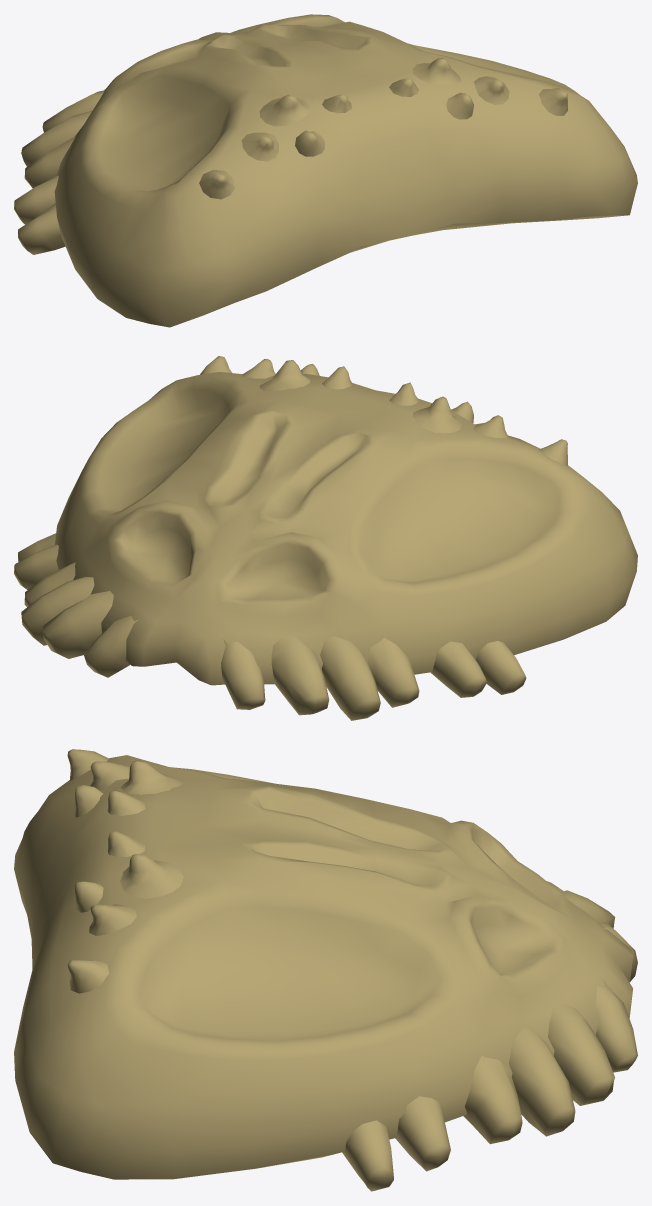
Rendered from obj_artifact_fossil01.fbx.
3 views of the same model, one above another, from view 1: azimuth 30°, elevation 25°; view 2: azimuth 150°, elevation 25°; view 3: azimuth 270°, elevation 25° (orthographic). The views are drawn at different scales.
Visible parts, largest first — view 1: lod0_obj_artifact_fossil01.001; view 2: lod0_obj_artifact_fossil01.001; view 3: lod0_obj_artifact_fossil01.001.
Part boxes in pixels (x1,y1,x2,y2): lod0_obj_artifact_fossil01.001: [14, 14, 637, 327]; lod0_obj_artifact_fossil01.001: [14, 356, 637, 720]; lod0_obj_artifact_fossil01.001: [14, 749, 637, 1191].
Bounding box in the file's own units: 15.9 × 5.47 × 13.11.
